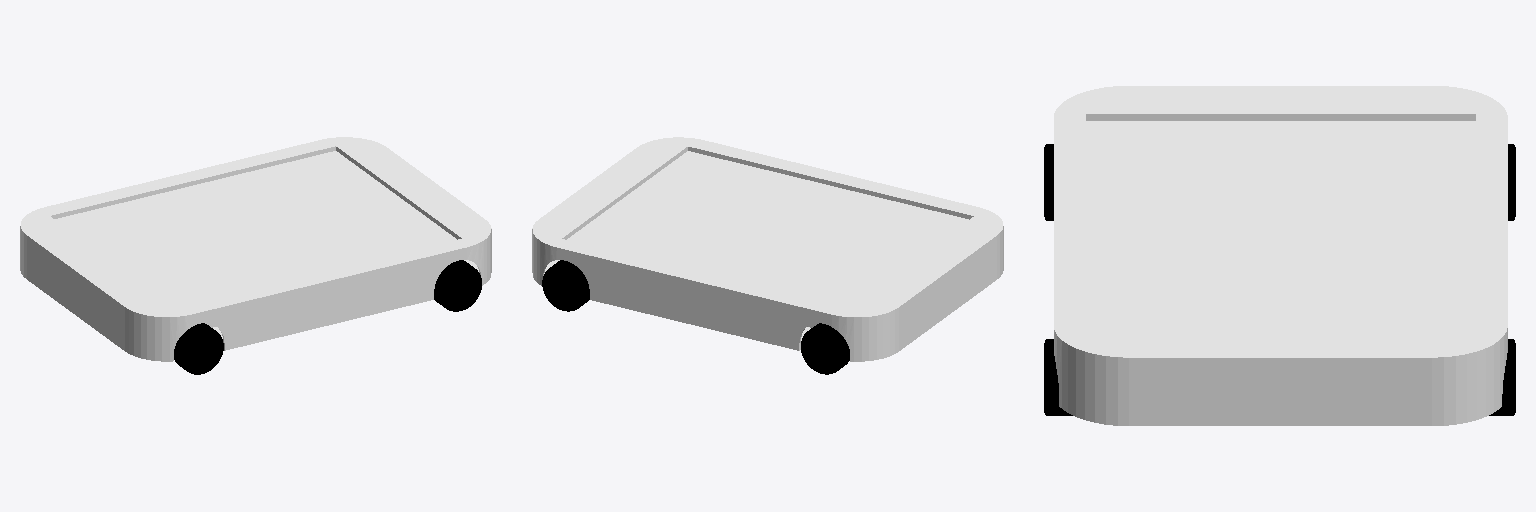
robot.urdf — carroDeParo:
<?xml version="1.0"?>
<robot name="carroDeParo">
	<link name="base_link">
   		<visual>
     			<geometry>
      				<mesh filename="package://plataformaMovil/meshes/chasis.STL" scale="0.001 0.001 0.001"/>
     			</geometry>
			<origin rpy="1.5708 0 0" xyz="-0.425 0.3 0.04"/>
			<material name="white">
				<color rgba="1 1 1 1"/>
			</material>
   		</visual>
		<collision>
			<geometry>
      				<mesh filename="package://plataformaMovil/meshes/chasis.STL" scale="0.001 0.001 0.001"/>
			</geometry>
		</collision>
		<inertial>
			<mass value="100"/>
	 		<inertia ixx="1.0" ixy="0.0" ixz="0.0" iyy="1.0" iyz="0.0" izz="1.0"/>
		</inertial>
				
 	</link>

 	<link name="wheel_1">
   		<visual>
     			<geometry>
      				<mesh filename="package://plataformaMovil/meshes/Rueda.STL" scale="0.001 0.001 0.001"/>
     			</geometry>
			<origin rpy="0 0 0" xyz="-0.051 -0.051 -0.04"/>
   			<material name="black">
				<color rgba="0 0 0 1"/>
			</material>
		</visual>
		<collision>
			<geometry>
      				<mesh filename="package://plataformaMovil/meshes/Rueda.STL" scale="0.001 0.001 0.001"/>
			</geometry>
		</collision>
		<inertial>
			<mass value="10"/>
	 		<inertia ixx="1.0" ixy="0.0" ixz="0.0" iyy="1.0" iyz="0.0" izz="1.0"/>
		</inertial>
 	</link>

 	<link name="wheel_2">
   		<visual>
     			<geometry>
      				<mesh filename="package://plataformaMovil/meshes/Rueda.STL" scale="0.001 0.001 0.001"/>
     			</geometry>
			<origin rpy="0 0 0" xyz="-0.051 -0.051 -0.04"/>
   			<material name="black"/>
   		</visual>
		<collision>
			<geometry>
      				<mesh filename="package://plataformaMovil/meshes/Rueda.STL" scale="0.001 0.001 0.001"/>
			</geometry>
		</collision>
		<inertial>
			<mass value="10"/>
	 		<inertia ixx="1.0" ixy="0.0" ixz="0.0" iyy="1.0" iyz="0.0" izz="1.0"/>
		</inertial>

 	</link>
    
 	<link name="wheel_3">
   		<visual>
     			<geometry>
      				<mesh filename="package://plataformaMovil/meshes/Rueda.STL" scale="0.001 0.001 0.001"/>
     			</geometry>
			<origin rpy="0 0 0" xyz="-0.051 -0.051 0"/>
   			<material name="black"/>
   		</visual>
		<collision>
			<geometry>
      				<mesh filename="package://plataformaMovil/meshes/Rueda.STL" scale="0.001 0.001 0.001"/>
			</geometry>
		</collision>
		<inertial>
			<mass value="10"/>
	 		<inertia ixx="1.0" ixy="0.0" ixz="0.0" iyy="1.0" iyz="0.0" izz="1.0"/>
		</inertial>
 	</link>

 	<link name="wheel_4">
   		<visual>
     			<geometry>
      				<mesh filename="package://plataformaMovil/meshes/Rueda.STL" scale="0.001 0.001 0.001"/>
     			</geometry>
			<origin rpy="0 0 0" xyz="-0.051 -0.051 0"/>
   			<material name="black"/>
   		</visual>
		<collision>
			<geometry>
      				<mesh filename="package://plataformaMovil/meshes/Rueda.STL" scale="0.001 0.001 0.001"/>
			</geometry>
		</collision>
		<inertial>
			<mass value="10"/>
	 		<inertia ixx="1.0" ixy="0.0" ixz="0.0" iyy="1.0" iyz="0.0" izz="1.0"/>
		</inertial>
	</link>
	
	<link name="web_cam">
   		<visual>
     			<geometry>
      				<mesh filename="package://plataformaMovil/meshes/web_cam.STL" scale="0.01 0.01 0.01"/>
     			</geometry>
			<origin rpy="0 0 1.5708" xyz="0 0 0"/>
   			
   		</visual>
		<collision>
			<geometry>
      				<mesh filename="package://plataformaMovil/meshes/web_cam.STL" scale="0.01 0.01 0.01"/>
			</geometry>
		</collision>
		<inertial>
			<mass value="3"/>
	 		<inertia ixx="1.0" ixy="0.0" ixz="0.0" iyy="1.0" iyz="0.0" izz="1.0"/>
		</inertial>
 	</link>


 	<joint name="base_to_wheel1" type="revolute">
   		<parent link="base_link"/>
   		<child link="wheel_1"/>
   		<axis xyz="0 1 0"/>
   		<origin rpy="1.5708 0 0" xyz="0.305 0.27 0.055"/>
   		<limit effort="1000" lower="-0.45" upper="0.45" velocity="0.45"/>
 	</joint>

 	<joint name="base_to_wheel2" type="continuous">
   		<parent link="base_link"/>
   		<child link="wheel_2"/>
   		<axis xyz="0 0 1"/>
   		<origin rpy="1.5708 0 0" xyz="-0.305 0.27 0.055"/>
 	</joint>

 	<joint name="base_to_wheel3" type="revolute">
   		<parent link="base_link"/>
   		<child link="wheel_3"/>
   		<axis xyz="0 1 0"/>
   		<origin rpy="1.5708 0 0" xyz="0.305 -0.27 0.055"/>
   		<limit effort="1000" lower="-0.45" upper="0.45" velocity="0.45"/>
 	</joint>

 	<joint name="base_to_wheel4" type="continuous">
   		<parent link="base_link"/>
   		<child link="wheel_4"/>
   		<axis xyz="0 0 1"/>
   		<origin rpy="1.5708 0 0" xyz="-0.305 -0.27 0.055"/>
 	</joint>
 	
 	<joint name="base_to_web_cam" type="fixed">
   		<parent link="base_link"/>
   		<child link="web_cam"/>
   		<origin rpy="0 0 0" xyz="0.38 0 0.14"/>
 	</joint>
	
</robot>   		

--- Render facts (derived) ---
3 views of the same robot in one strip: view 1: azimuth 30°, elevation 25°; view 2: azimuth 150°, elevation 25°; view 3: azimuth 270°, elevation 25° (orthographic).
Model carroDeParo with 6 links and 5 joints (2 revolute, 2 continuous, 1 fixed), rooted at base_link, posed every joint at zero.
Links seen in each view (by area): view 1: base_link, wheel_4, wheel_3; view 2: base_link, wheel_2, wheel_1; view 3: base_link, wheel_3, wheel_1, wheel_4, wheel_2.
Link boxes in pixels (x1,y1,x2,y2): base_link: (20,137,491,361); wheel_4: (174,323,223,374); wheel_3: (434,260,481,311); base_link: (532,137,1003,361); wheel_2: (801,323,849,374); wheel_1: (542,260,589,311); base_link: (1054,86,1507,425); wheel_3: (1044,339,1072,415); wheel_1: (1489,339,1515,415); wheel_4: (1044,144,1053,220); wheel_2: (1508,144,1515,220).
Bounding box of the posed robot: 0.85 × 0.622 × 0.136 m (x, y, z).
5 mesh visuals loaded from 3 distinct referenced files (2 binary STL); not drawn: 1 (reference not matched to a file when rendering).